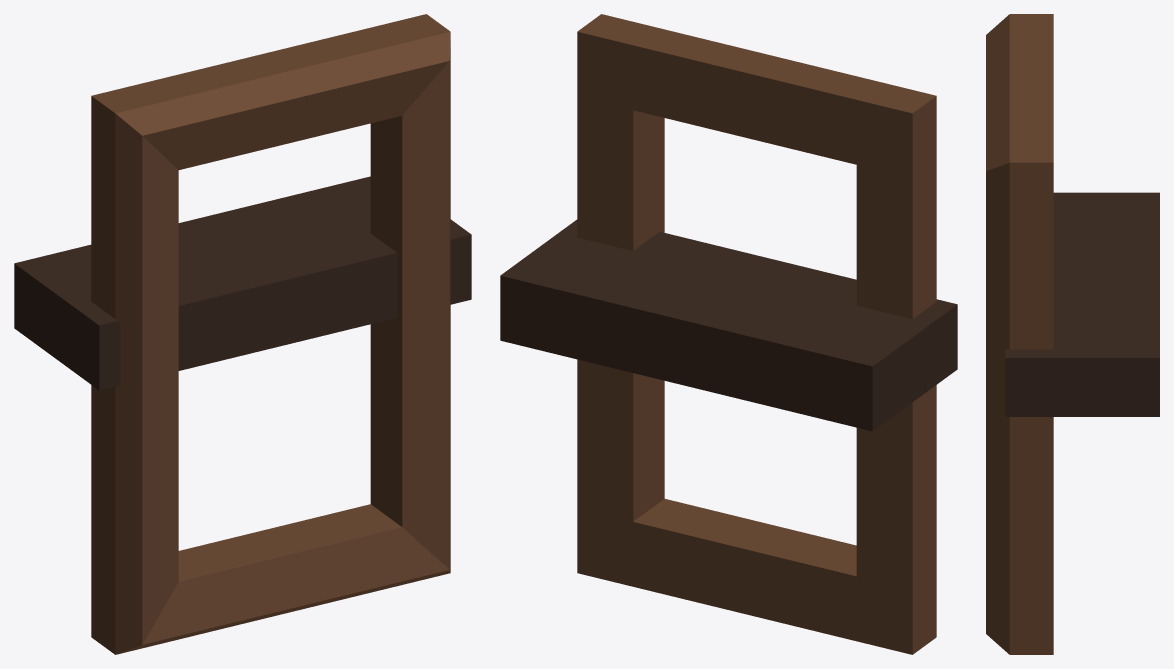
Rendered from photo_frame_empty.glb.
The picture shows the model from 3 angles, left to right: view 1: azimuth 30°, elevation 25°; view 2: azimuth 150°, elevation 25°; view 3: azimuth 270°, elevation 25°; orthographic projection. The views are drawn at different scales.
Parts seen in each view (by area): view 1: Marco vacío, Pie; view 2: Marco vacío, Pie; view 3: Marco vacío, Pie.
Boxes of the visible parts, bbox=[...] form: Marco vacío: bbox=[91, 14, 450, 654]; Pie: bbox=[14, 176, 471, 390]; Marco vacío: bbox=[577, 14, 936, 654]; Pie: bbox=[500, 219, 957, 431]; Marco vacío: bbox=[986, 14, 1053, 654]; Pie: bbox=[1005, 192, 1159, 416].
Size of the model in its own units: 0.18 by 0.25 by 0.08.
